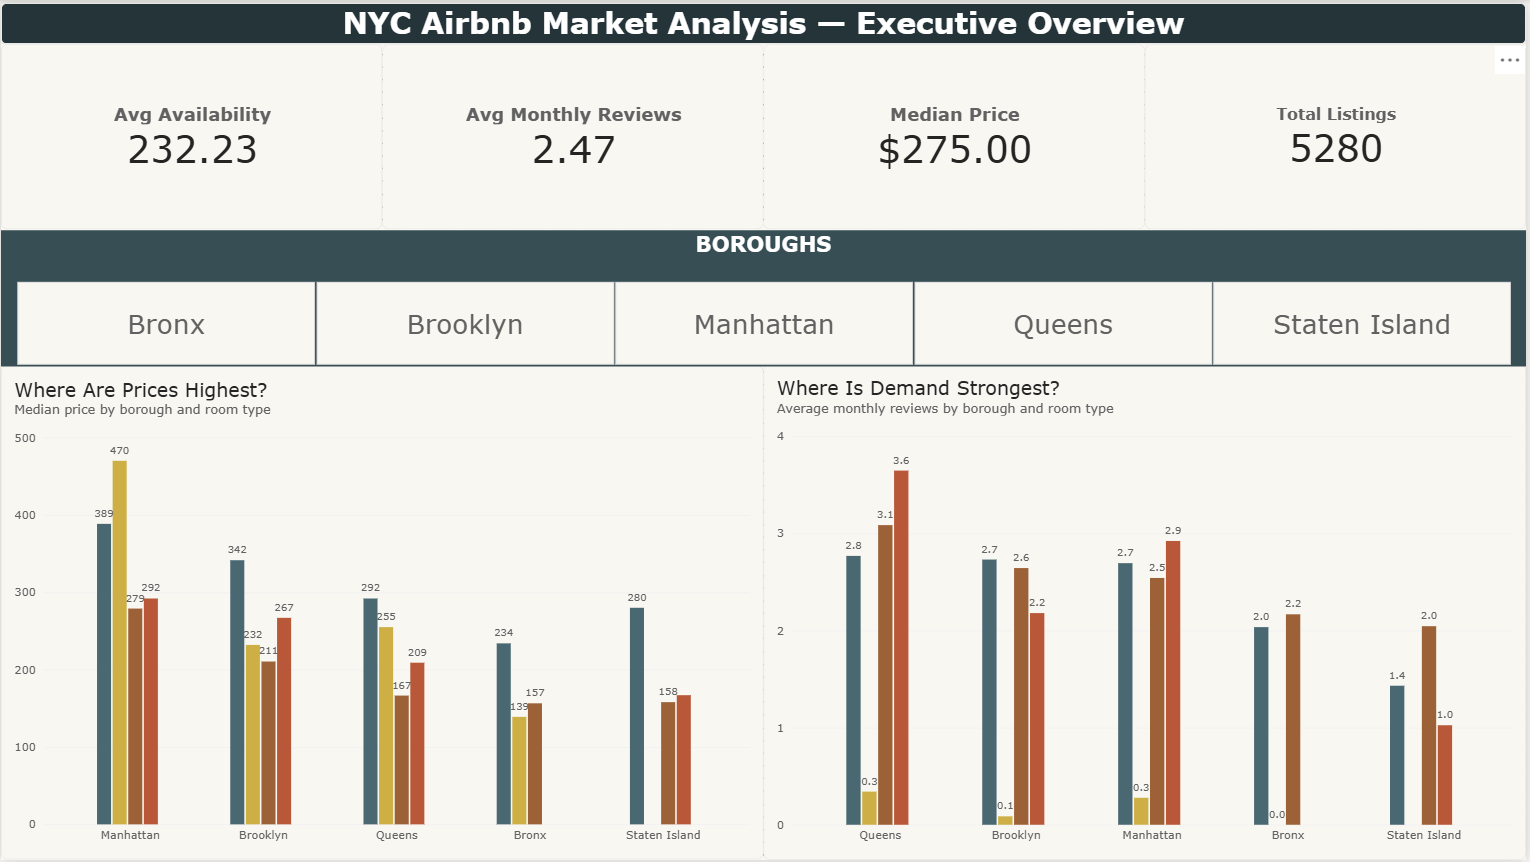

What the dashboard file says about the page in this screenshot:
{"tool":"powerbi","page":{"name":"Overview","canvas":[1920,1080],"ordinal":0},"visuals":[{"type":"cardVisual","fields":{"Data":["public listings_clean.Avg Availability"]},"box":[0,52.2,480,233.7],"z":0},{"type":"cardVisual","fields":{"Data":["public listings_clean.Avg Monthly Reviews"]},"box":[480,52.2,480,233.7],"z":1000},{"type":"cardVisual","fields":{"Data":["public listings_clean.Median Price"]},"box":[960,52.2,480,233.7],"z":2000},{"type":"cardVisual","fields":{"Data":["public listings_clean.Total Listings"]},"box":[1440,52.2,480,233.7],"z":3000},{"type":"clusteredColumnChart","title":"Where Are Prices Highest?","fields":{"Category":["public listings_clean.neighbourhood_group"],"Series":["public listings_clean.room_type"],"Y":["public listings_clean.Median Price"]},"box":[0,457,960,621.9],"z":4000},{"type":"clusteredColumnChart","title":"Where Is Demand Strongest?","fields":{"Category":["public listings_clean.neighbourhood_group"],"Series":["public listings_clean.room_type"],"Y":["public listings_clean.Avg Monthly Reviews"]},"box":[960,455,960,624],"z":5000},{"type":"textbox","box":[0,0,1920,52.2],"z":6000},{"type":"slicer","title":"BOROUGHS","fields":{"Values":["public listings_clean.neighbourhood_group"]},"box":[0,285.9,1920,171.1],"z":7000}]}

Visuals, with their boxes in screenshot pixels (x1, y1, x2, y2), scaled from the page's 1920x1080 canvas onto the 1530x862 screenshot:
cardVisual - public listings_clean.Avg Availability: locate(0, 42, 382, 228)
cardVisual - public listings_clean.Avg Monthly Reviews: locate(382, 42, 765, 228)
cardVisual - public listings_clean.Median Price: locate(765, 42, 1148, 228)
cardVisual - public listings_clean.Total Listings: locate(1148, 42, 1529, 228)
"Where Are Prices Highest?" clusteredColumnChart: locate(0, 365, 765, 861)
"Where Is Demand Strongest?" clusteredColumnChart: locate(765, 363, 1529, 861)
textbox: locate(0, 0, 1529, 42)
"BOROUGHS" slicer: locate(0, 228, 1529, 365)
